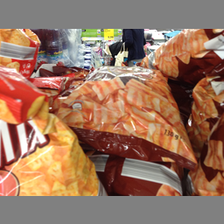chips: (60, 58, 204, 165), (135, 30, 224, 79)
